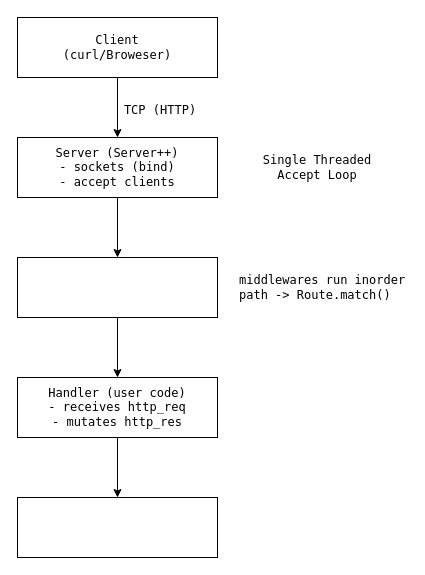
Image size: 425x575. Some labels were removed from this diagram. The box of each missing label's shape, as (x1, y1, x2, y2) in pixels:
Response serialized -> socket send(): (16, 496, 218, 558)
Router (Router) - routes[]: (16, 256, 218, 318)
